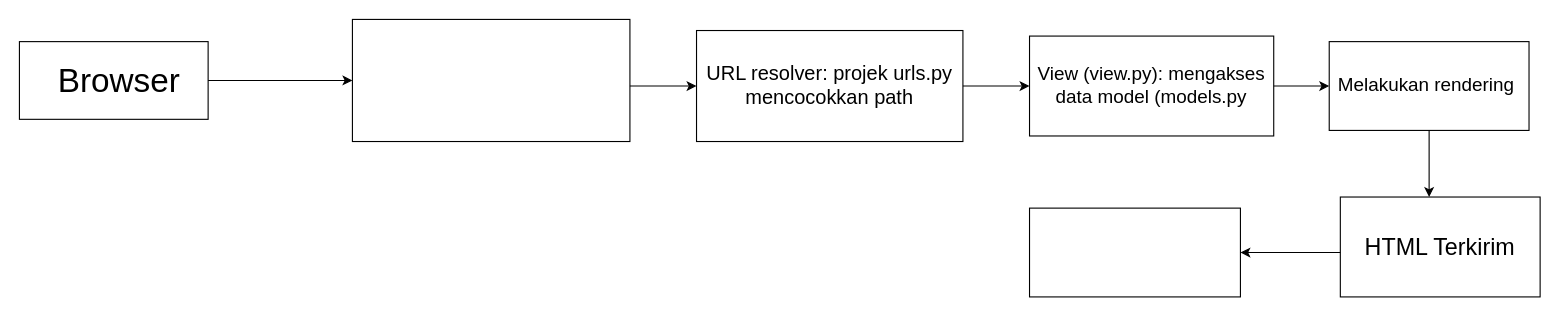
Image size: 1560x316. Some labels were removed from this diagram. Each missing label, with the box of its shape:
Masuk ke WSGI/ASGI server (menyerahkan ke django: (351, 18, 630, 142)
Menampilkan halaman pada browser: (1028, 207, 1240, 297)
